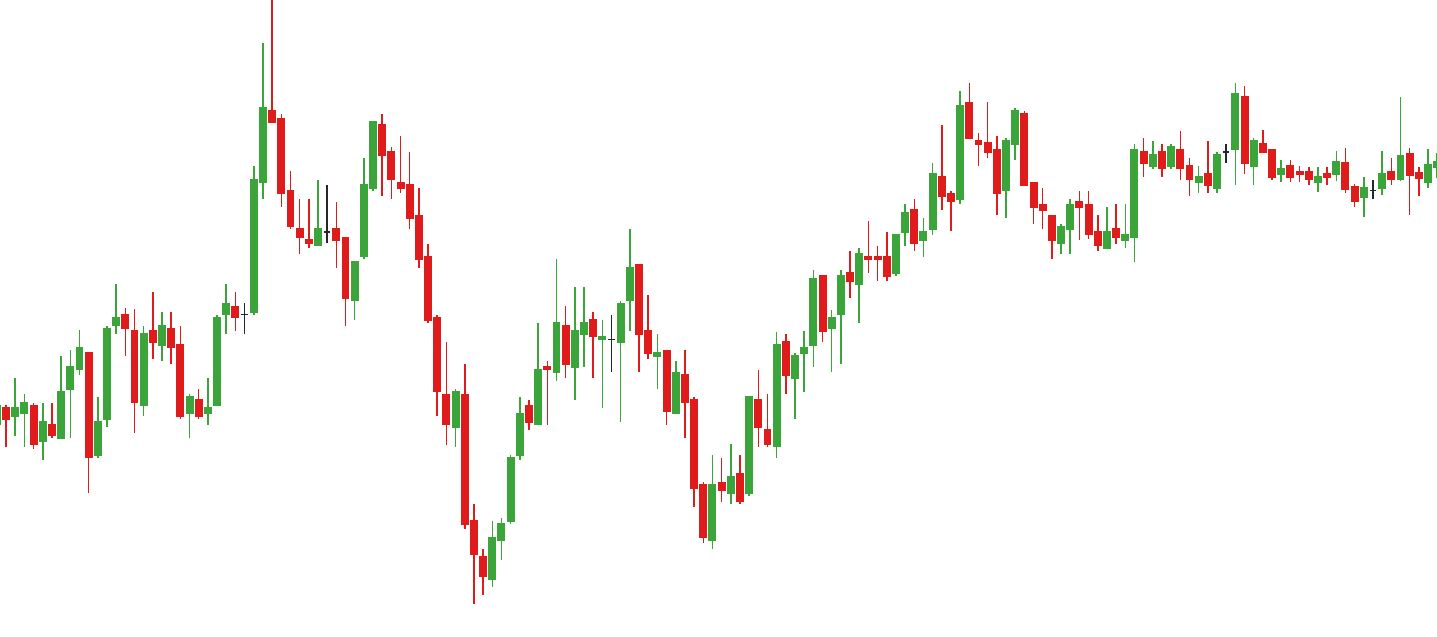buy: (28, 380, 101, 499), (128, 335, 194, 439)
sell: (550, 228, 644, 393), (311, 116, 406, 249)
